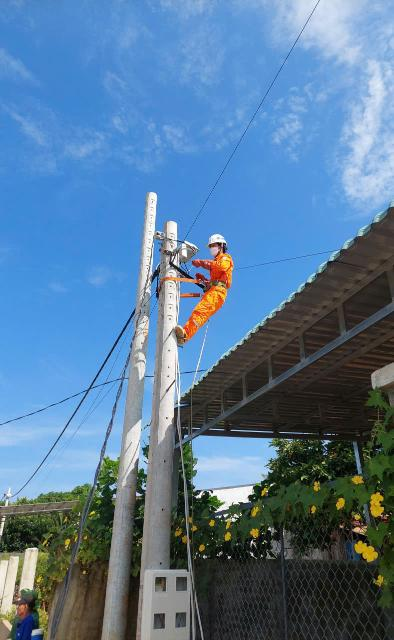gloves: (192, 255, 215, 270), (196, 271, 213, 287)
harness: (183, 276, 235, 290)
helmet: (200, 230, 231, 248)
shoes: (167, 317, 194, 346)
